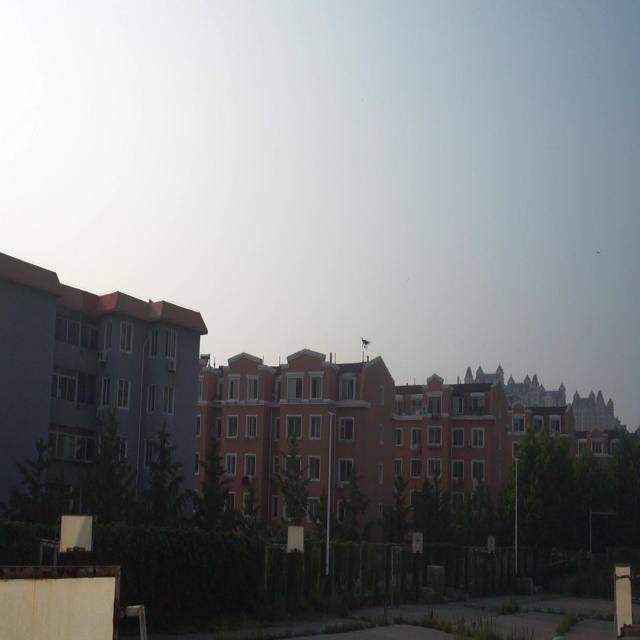drone: (359, 330, 373, 356)
